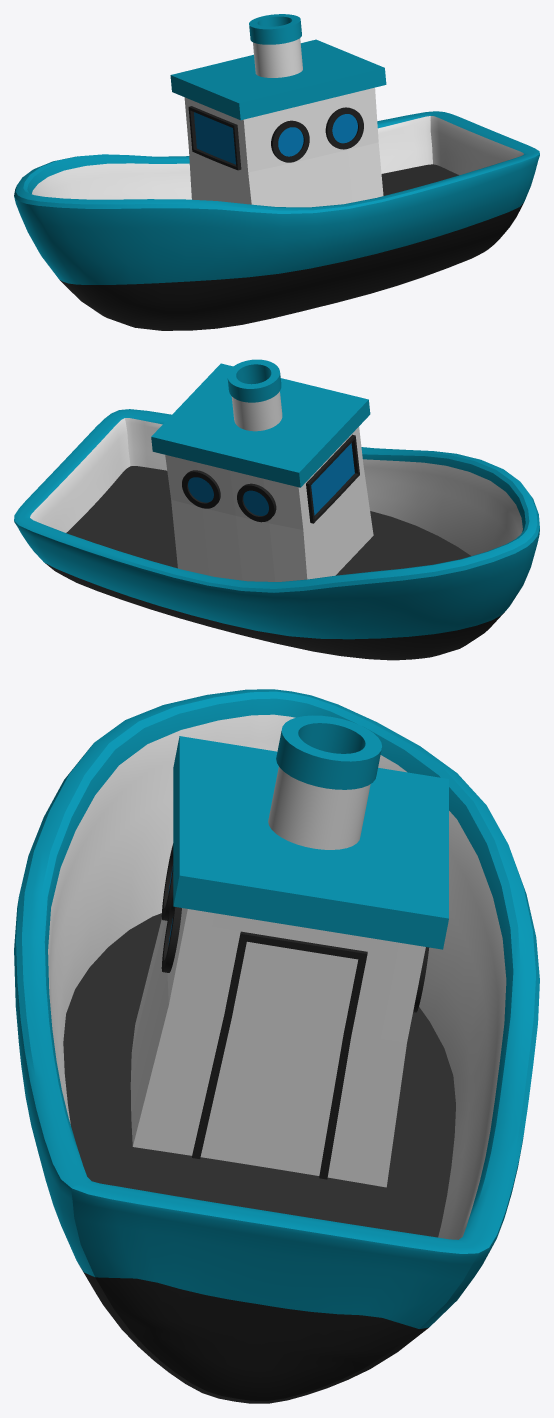
Rendered from AnimBarquinho.fbx.
3 renders of one model, top to bottom at view 1: azimuth 30°, elevation 25°; view 2: azimuth 150°, elevation 25°; view 3: azimuth 270°, elevation 25°, orthographic. The views are drawn at different scales.
Parts seen in each view (by area): view 1: Green Boat; view 2: Green Boat; view 3: Green Boat.
Part boxes in pixels (x1,y1,x2,y2): Green Boat: [14, 14, 539, 330]; Green Boat: [14, 359, 539, 660]; Green Boat: [14, 689, 539, 1403].
Size of the model in its own units: 9.61 by 5.33 by 4.75.
